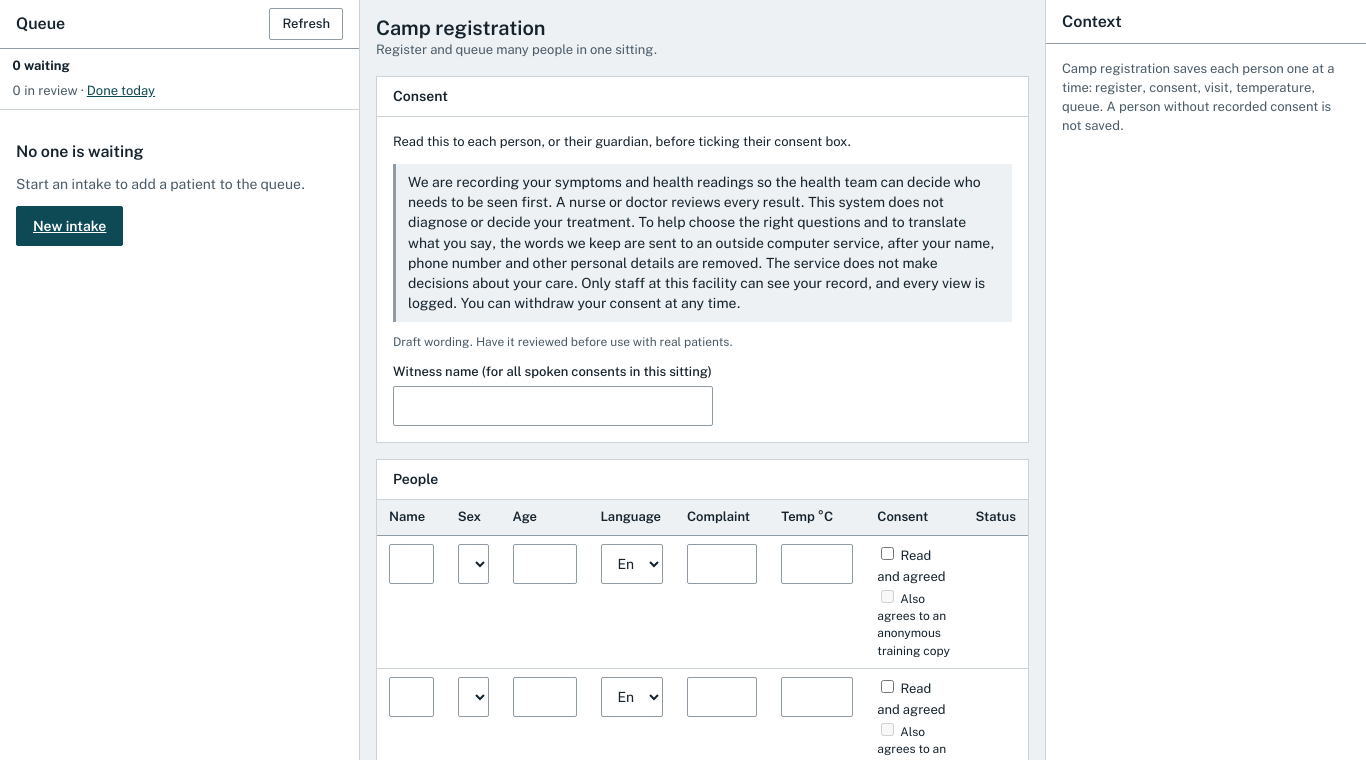
Test case: CampBatchPage › without a witness name nobody is saved
Type "Meera Das" into the field named "Name, row 1" at (411, 564), box [389,544,434,584]
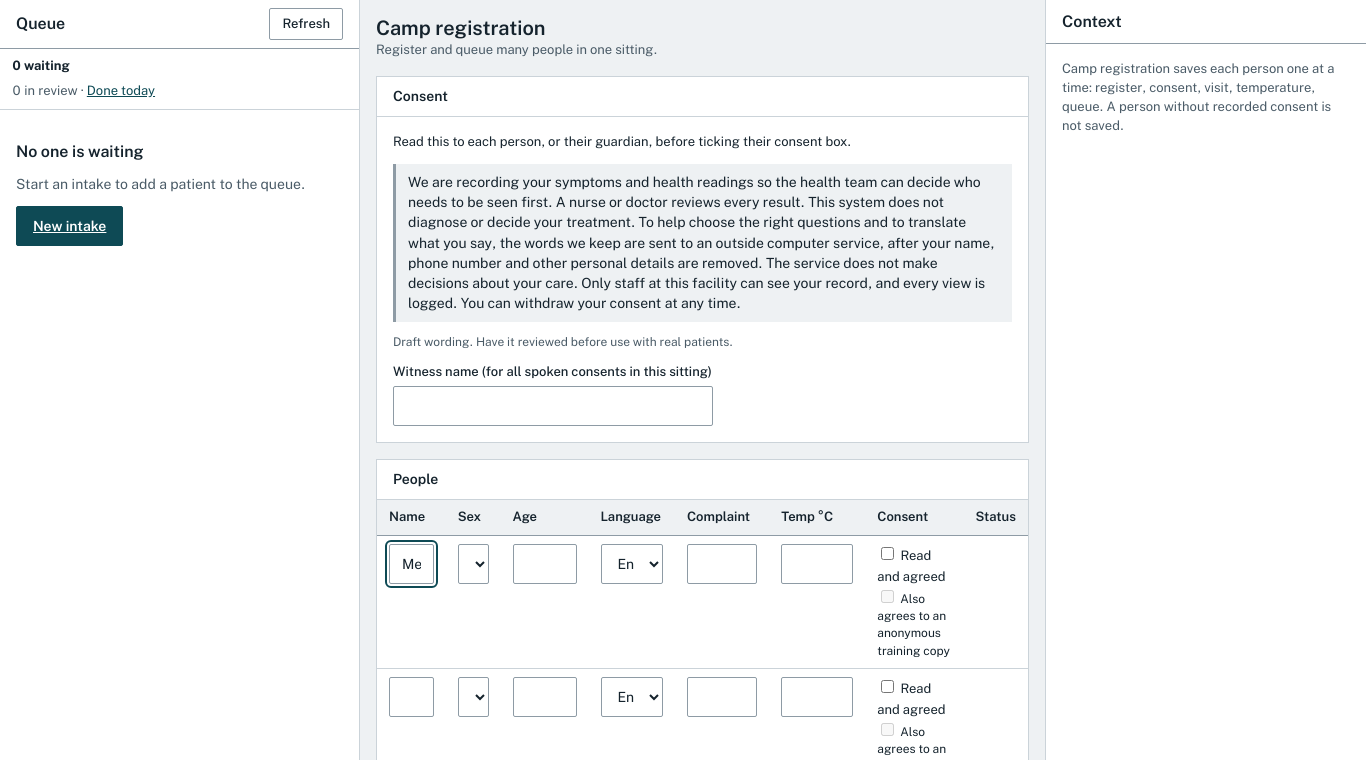
Type "28" into the field named "Age, row 1" at (544, 564), box [512,544,576,584]
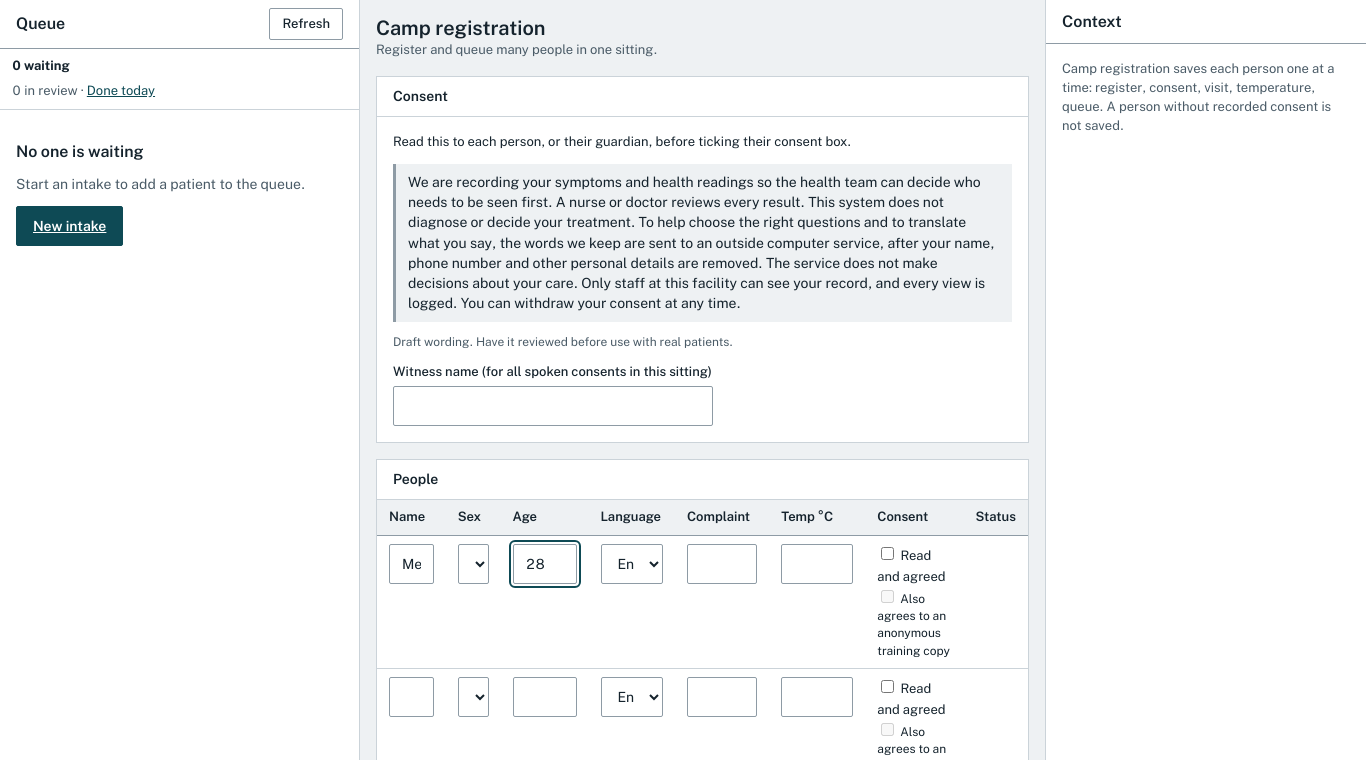
Type "bukhar" into the field named "Complaint, row 1" at (722, 564), box [687,544,757,584]
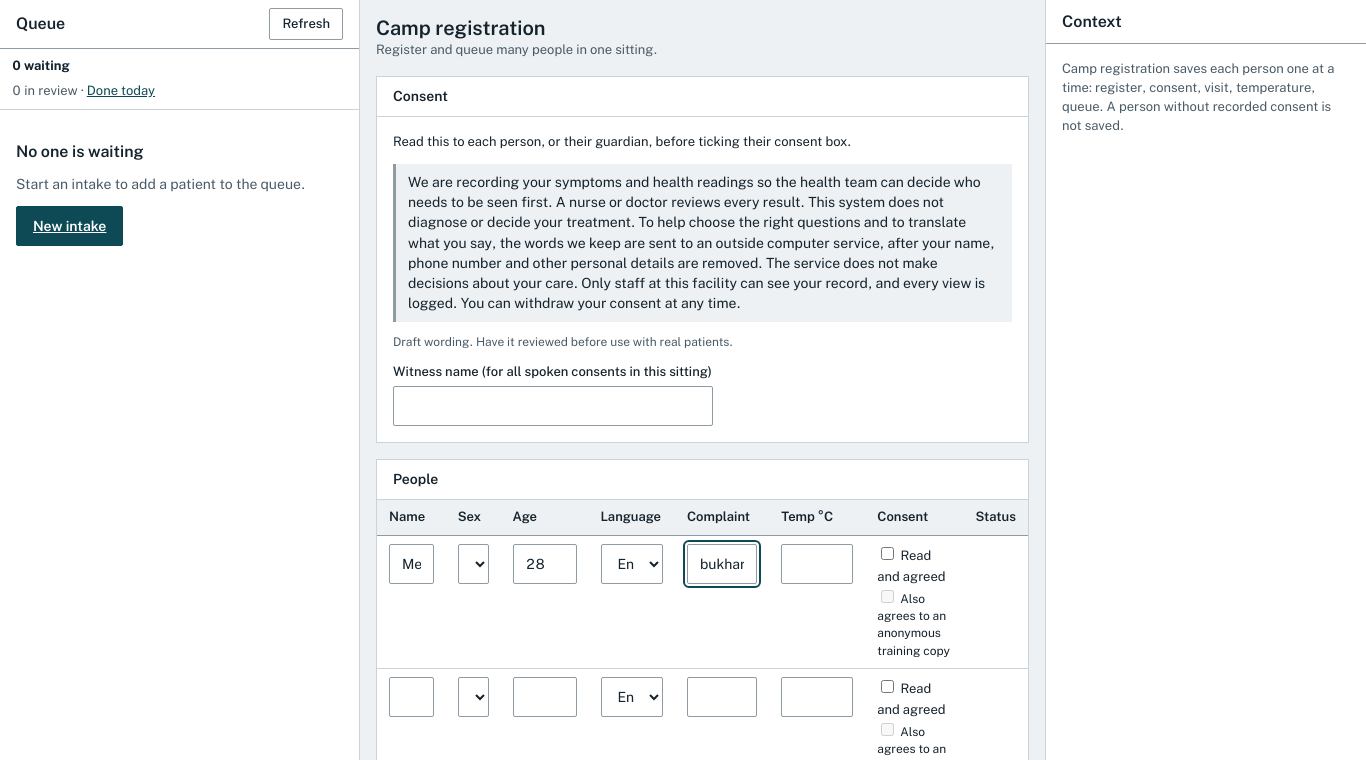
Click the 1st checkbox labelled "Read and agreed" at (888, 553), box [881,547,894,560]
(page scrolled)
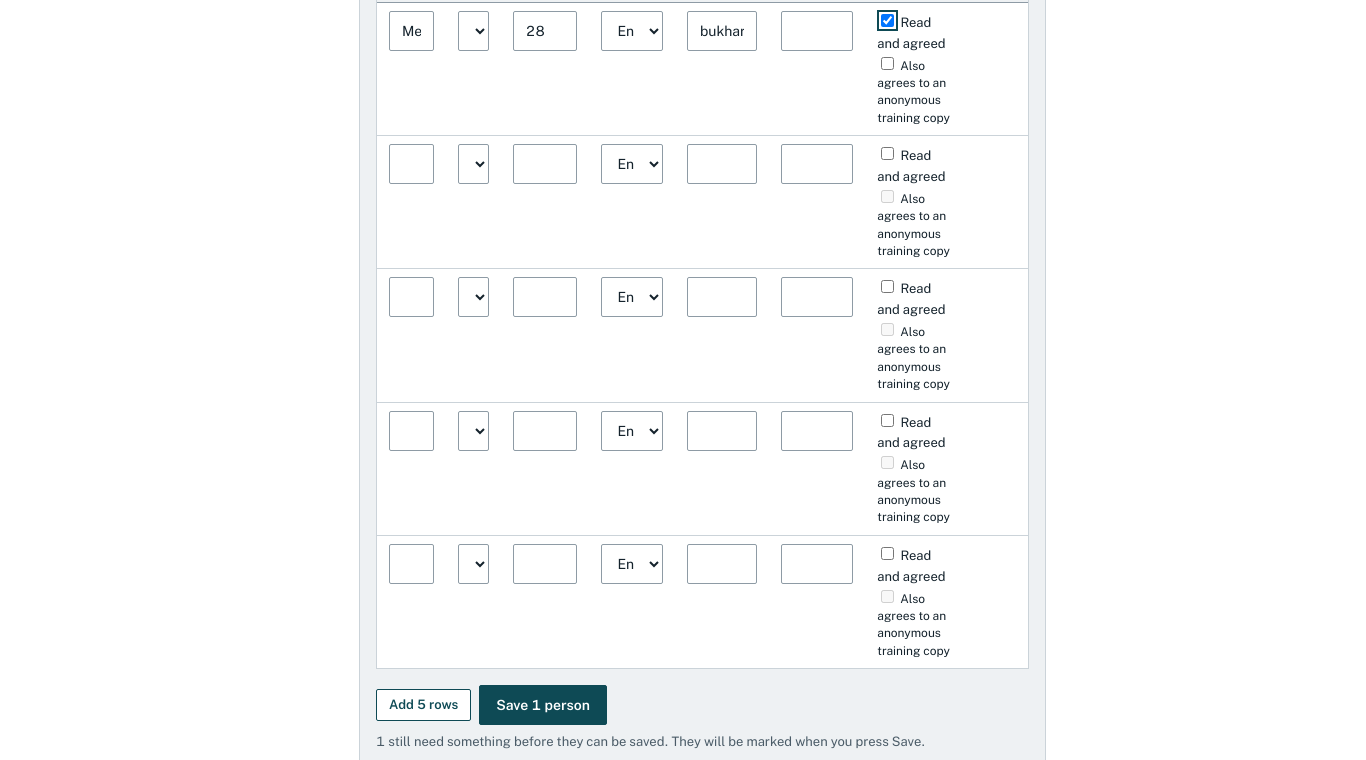
Click the button "Save 1 person" at (543, 705), box [479,685,607,725]
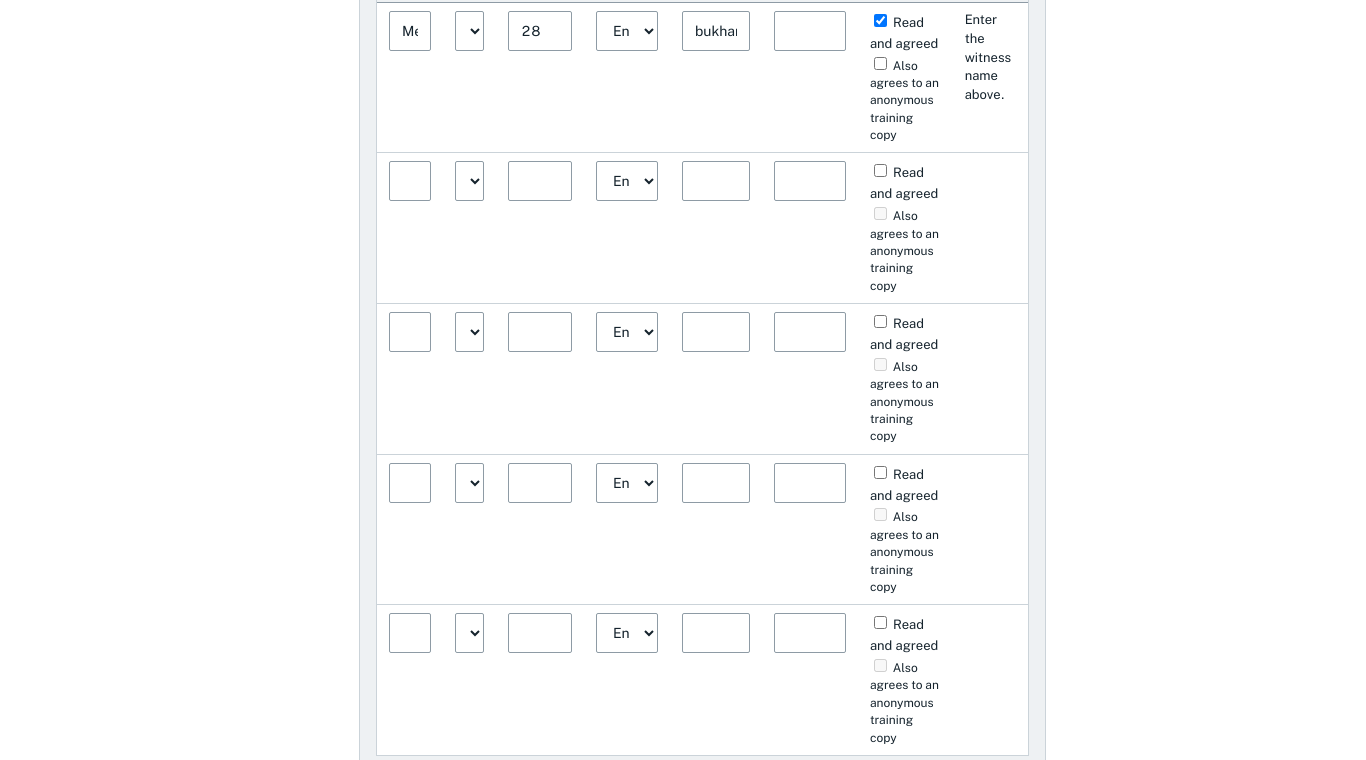
Check: the message shows "witness", box [965,12,1011,102]
